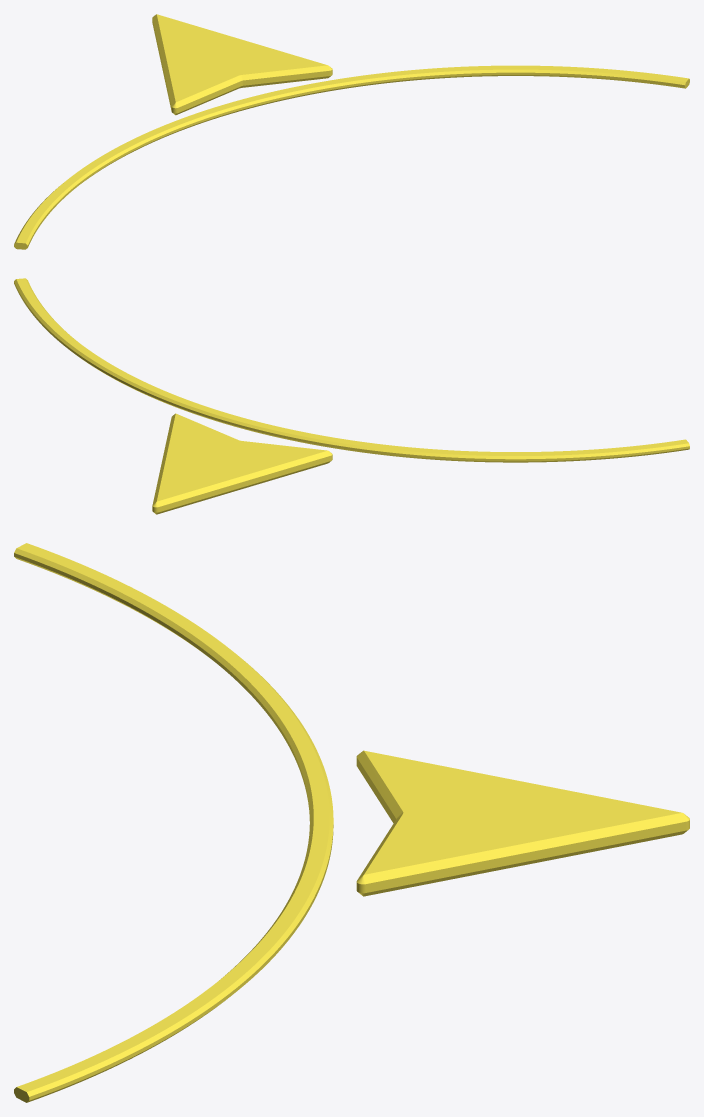
File: Wayfinding_pointer_v1.fbx
3 views of the same model, one above another, from view 1: azimuth 30°, elevation 25°; view 2: azimuth 150°, elevation 25°; view 3: azimuth 270°, elevation 25° (orthographic). The views are drawn at different scales.
Parts seen in each view (by area): view 1: Fill, Tube; view 2: Fill, Tube; view 3: Fill, Tube.
Boxes of the visible parts, bbox=[...] form: Fill: bbox=[152, 14, 332, 115]; Tube: bbox=[14, 65, 689, 249]; Fill: bbox=[152, 413, 332, 514]; Tube: bbox=[14, 278, 689, 462]; Fill: bbox=[356, 750, 689, 896]; Tube: bbox=[14, 543, 333, 1102].
Bounding box in the file's own units: 221 × 4.05 × 114.
